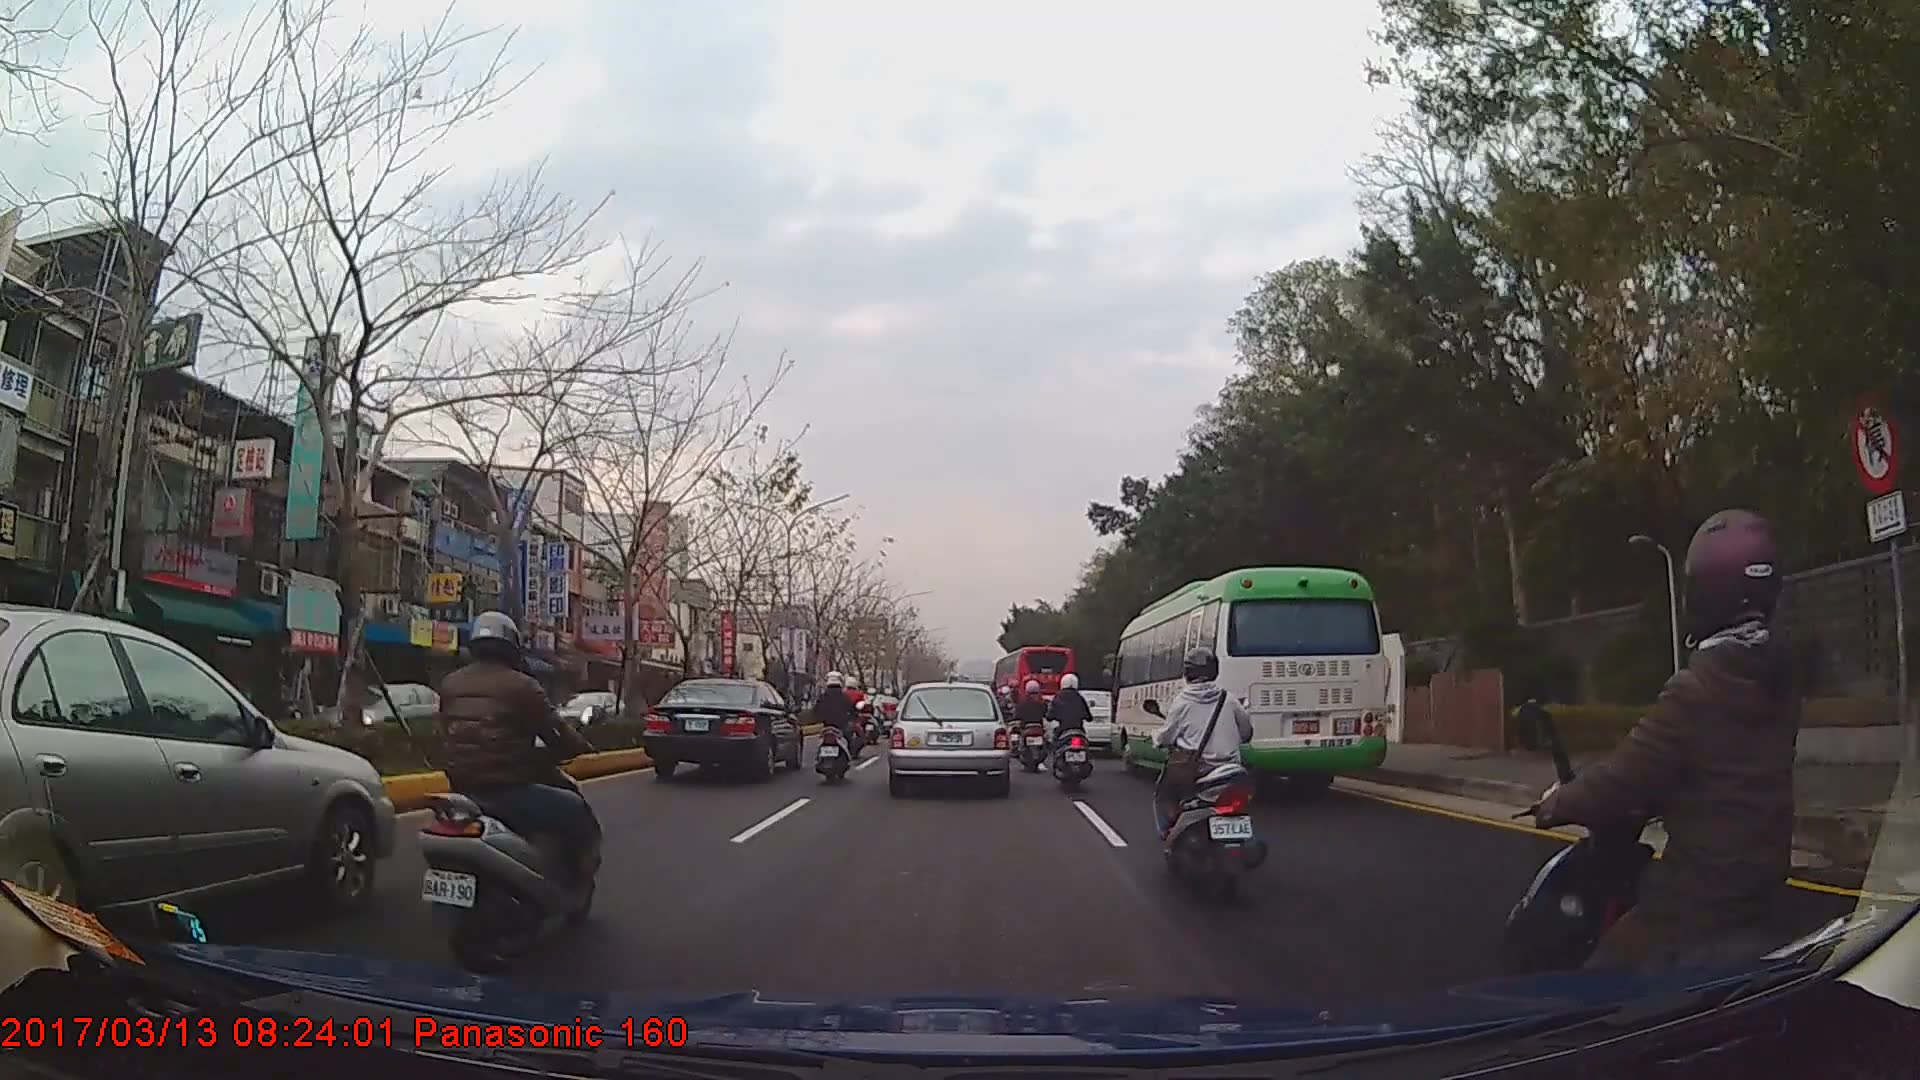rider: (1503, 509, 1920, 1080), (416, 608, 607, 977), (1144, 649, 1260, 901), (1049, 674, 1098, 790), (816, 671, 862, 787), (1017, 677, 1055, 774), (1004, 679, 1028, 755), (862, 689, 888, 745), (880, 686, 901, 726)
vehicle: (0, 610, 399, 953), (1110, 566, 1388, 796), (637, 675, 804, 780), (888, 681, 1010, 795), (324, 677, 455, 754), (995, 642, 1077, 736), (548, 689, 626, 737)
